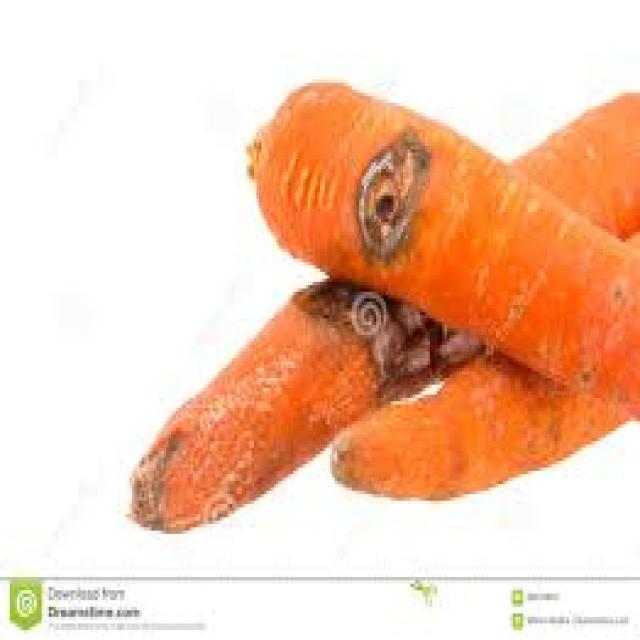Stale_Carrot: (255, 82, 640, 421), (134, 274, 488, 534), (333, 233, 640, 508)
